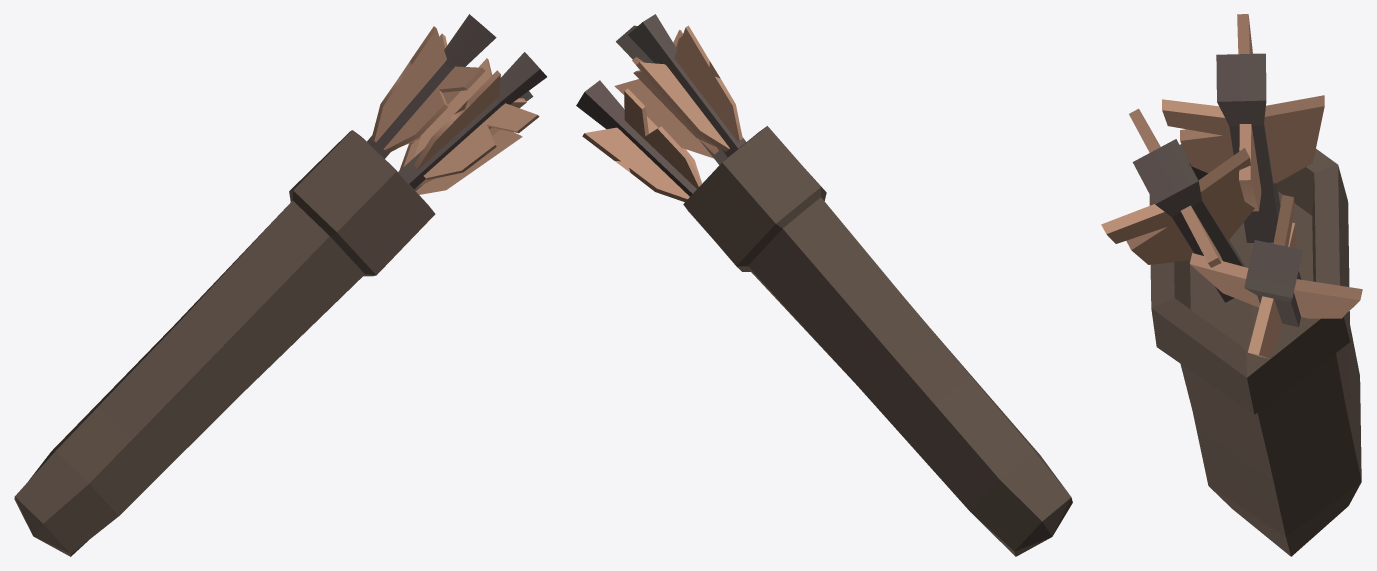
Rendered from banditQuiver01.fbx.
The picture shows the model from 3 angles, left to right: view 1: azimuth 30°, elevation 25°; view 2: azimuth 150°, elevation 25°; view 3: azimuth 270°, elevation 25°; orthographic projection. The views are drawn at different scales.
Visible parts, largest first — view 1: banditQuiver01; view 2: banditQuiver01; view 3: banditQuiver01.
Boxes of the visible parts, <box> form: banditQuiver01: <box>14,14,546,556</box>; banditQuiver01: <box>576,14,1072,556</box>; banditQuiver01: <box>1101,14,1362,556</box>.
Size of the model in its own units: 0.9539 by 0.8089 by 0.2194.
1 material, 1 textured.
